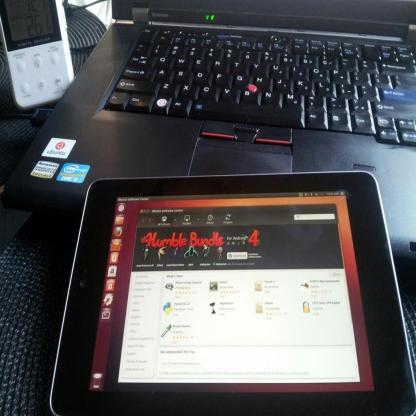board: (2, 0, 416, 260)
